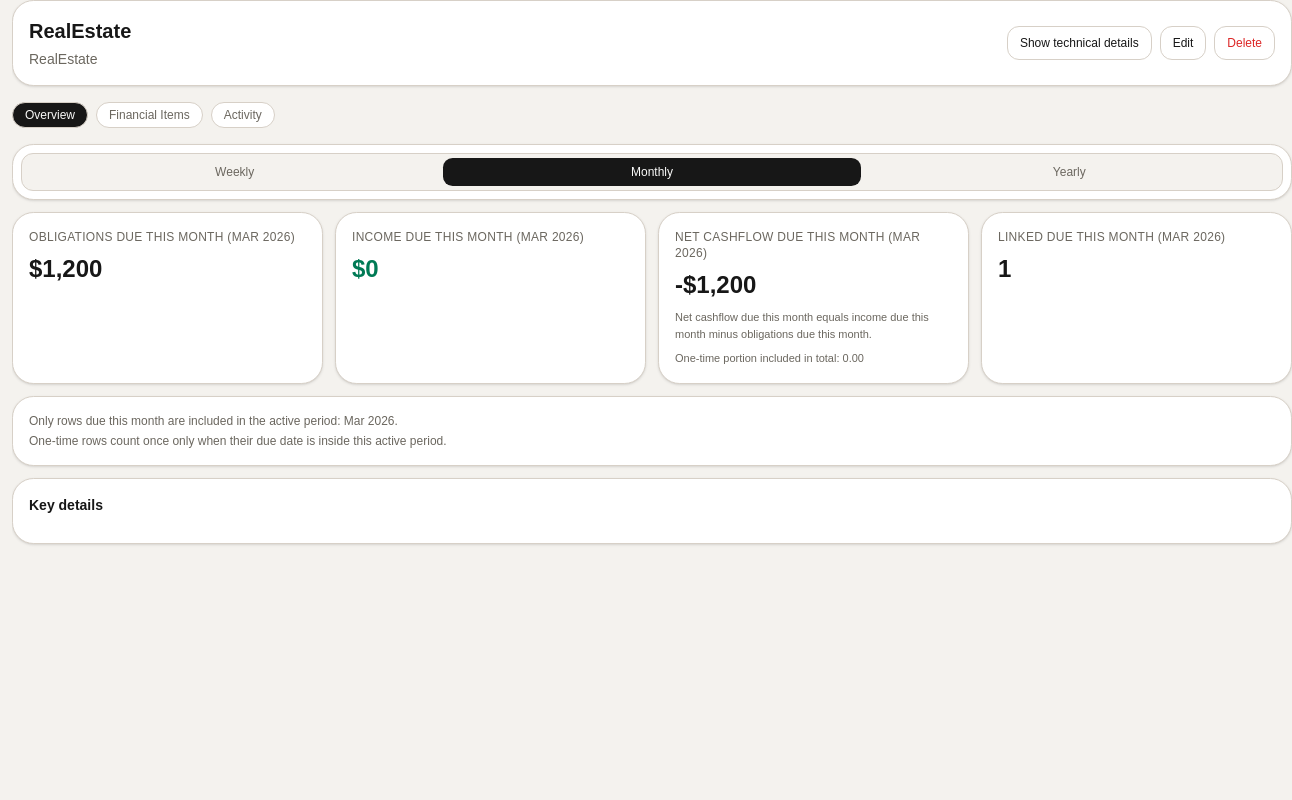
item detail events panel › keeps linked financial rows visible in the Financial Items tab when no in-period events exist
The width and height of the screenshot is (1292, 800).
Expected: the text "Linked due this month (Mar 2026)" is shown, [998,230,1225,244]
Click the button "Financial Items": (149, 115) [96,102,203,128]
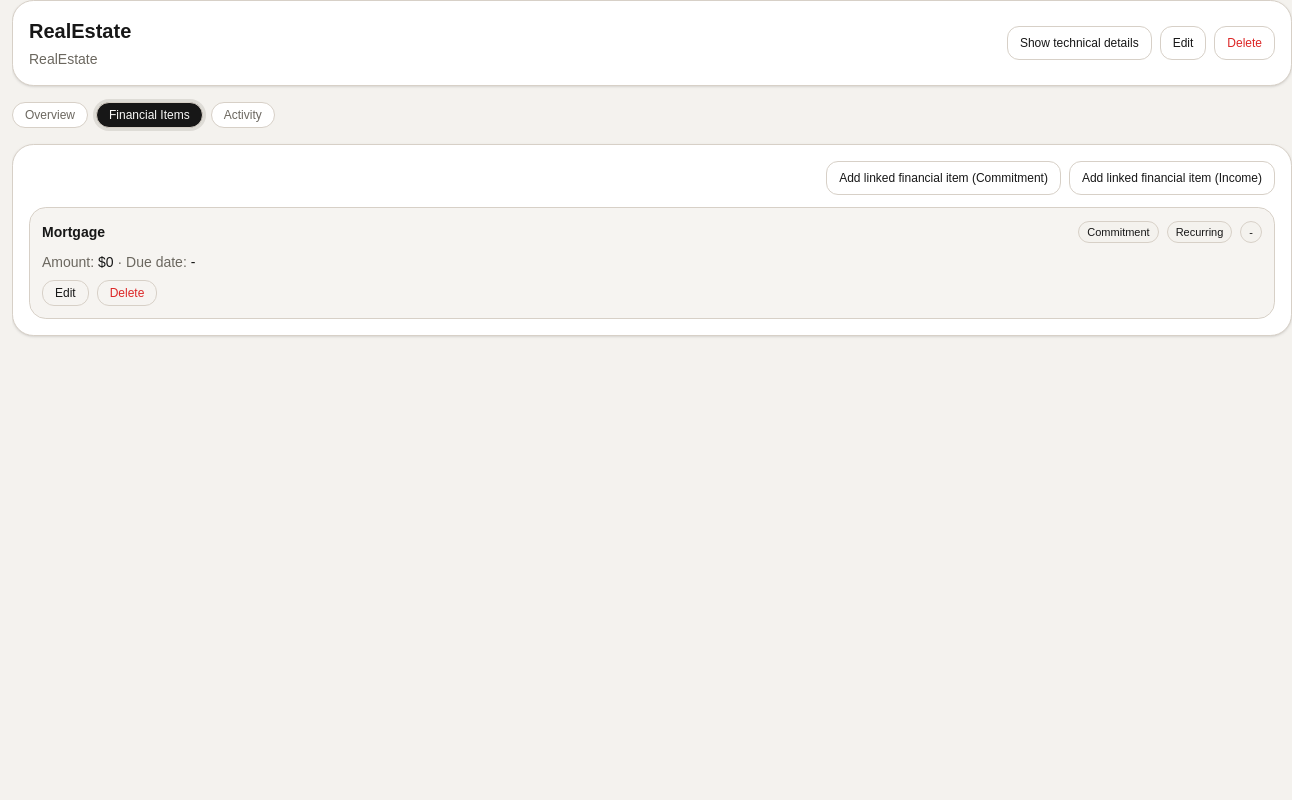
Expected: the link "Mortgage" is shown, [42,224,105,240]
